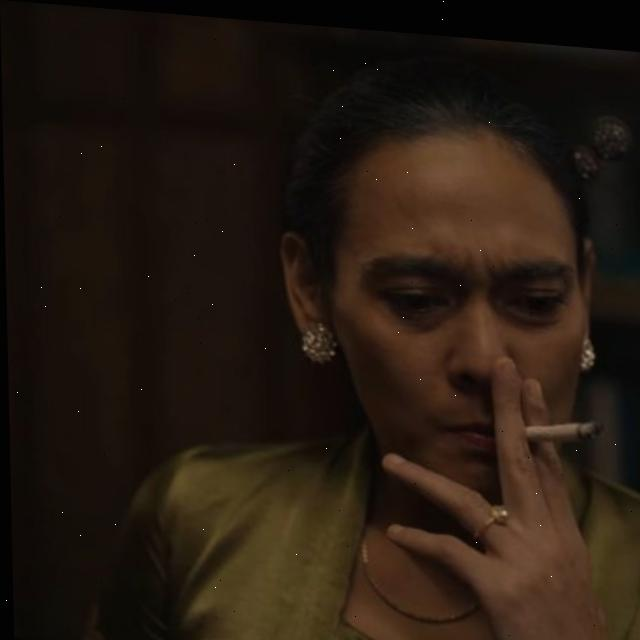cigarette: (521, 406, 605, 435)
